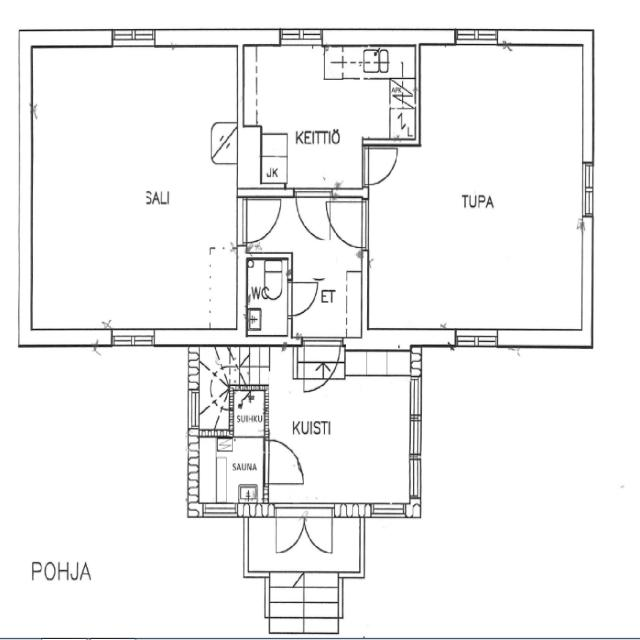door: (290, 188, 347, 246), (328, 194, 369, 251), (240, 194, 282, 248), (265, 434, 306, 488), (363, 144, 400, 186), (286, 277, 320, 320), (305, 514, 334, 558), (276, 514, 304, 556)
window: (110, 25, 158, 49), (278, 26, 324, 50), (453, 25, 500, 48), (454, 327, 499, 351), (111, 329, 158, 351), (580, 159, 596, 221), (200, 502, 239, 522), (370, 502, 408, 520)
zone: (27, 37, 236, 342), (373, 48, 588, 342), (238, 43, 412, 190), (268, 347, 416, 509), (188, 434, 268, 512), (246, 256, 290, 341), (193, 344, 237, 429), (231, 388, 267, 438)
